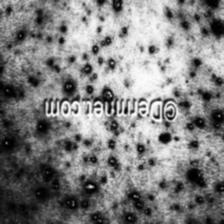Toxin: (76, 176, 104, 200), (104, 0, 122, 11)
